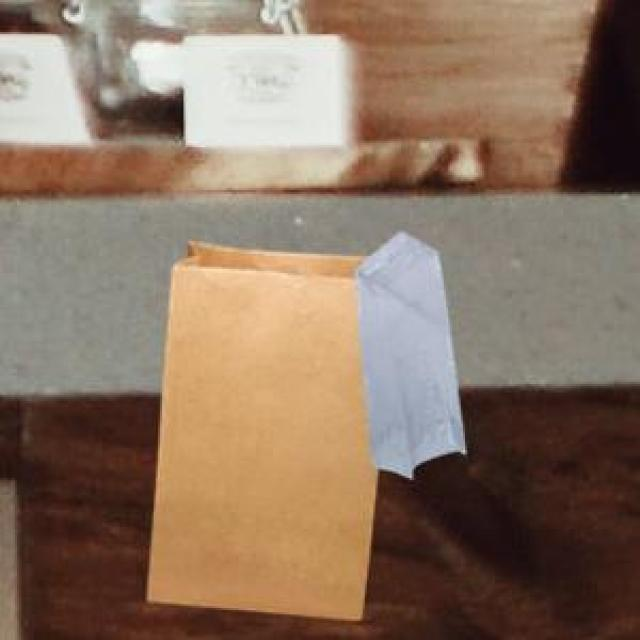paper: (143, 239, 373, 614)
